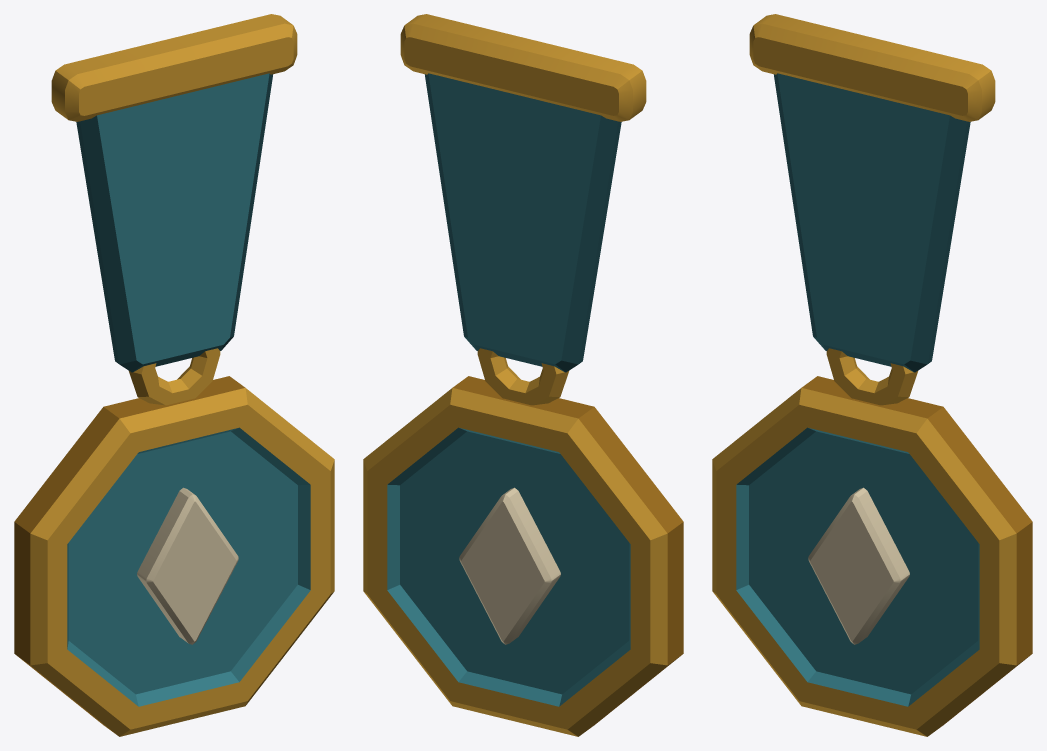
Rendered from Medal_35.glb.
3 renders of one model, left to right at view 1: azimuth 30°, elevation 25°; view 2: azimuth 150°, elevation 25°; view 3: azimuth 330°, elevation 25°, orthographic.
Visible parts, largest first — view 1: Medal_35; view 2: Medal_35; view 3: Medal_35.
Boxes of the visible parts, left/top/right/bottom form: Medal_35: left=14, top=14, right=334, bottom=736; Medal_35: left=363, top=14, right=683, bottom=736; Medal_35: left=712, top=14, right=1032, bottom=736.
Size of the model in its own units: 1.2 by 2.53 by 0.28.
